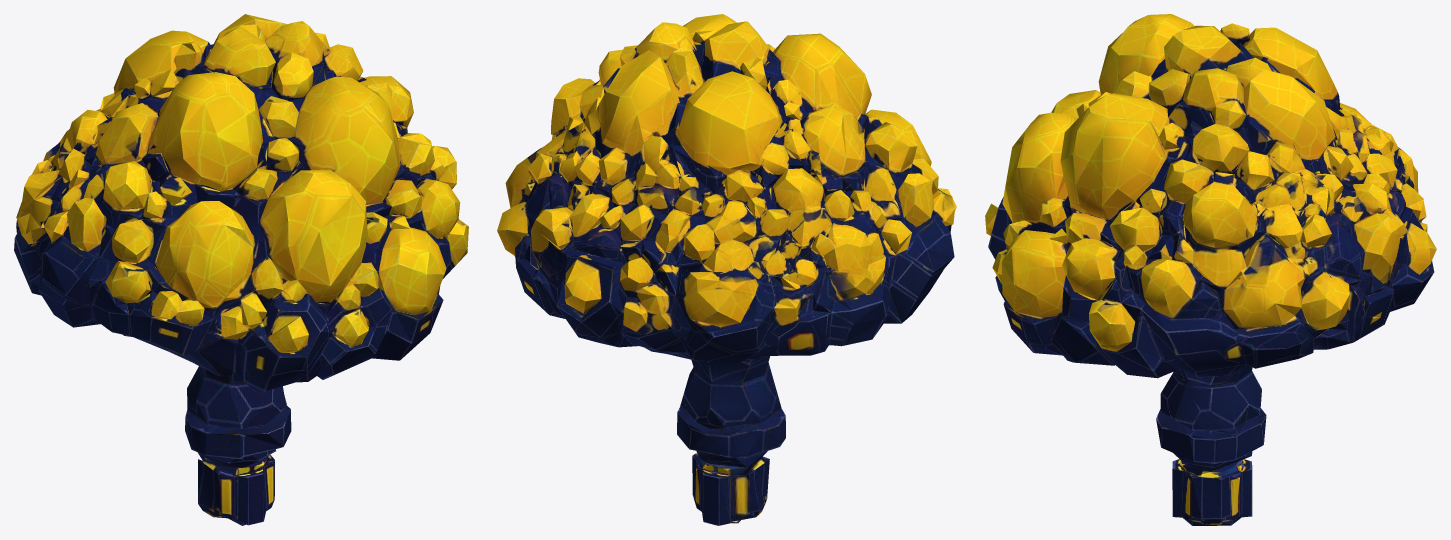
3 renders of one model, left to right at view 1: azimuth 30°, elevation 25°; view 2: azimuth 150°, elevation 25°; view 3: azimuth 270°, elevation 25°, orthographic.
Visible parts, largest first — view 1: output_unwrapped; view 2: output_unwrapped; view 3: output_unwrapped.
Part boxes in pixels (<box>): output_unwrapped: <box>14,14,468,525</box>; output_unwrapped: <box>497,14,956,525</box>; output_unwrapped: <box>985,14,1436,525</box>.
Size of the model in its own units: 1.62 by 1.9 by 1.58.
1 material, 1 textured.
